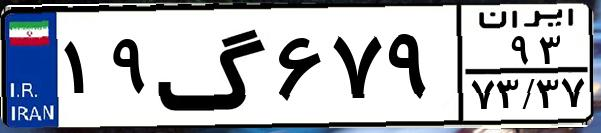1: (57, 26, 110, 100)
3: (537, 27, 568, 80), (495, 70, 520, 125), (535, 70, 560, 125)
6: (270, 28, 330, 110)
7: (330, 28, 385, 110), (560, 70, 590, 125), (470, 70, 495, 125)
9: (385, 28, 445, 110), (110, 28, 156, 98), (508, 27, 537, 80)
گ: (156, 12, 270, 120)
